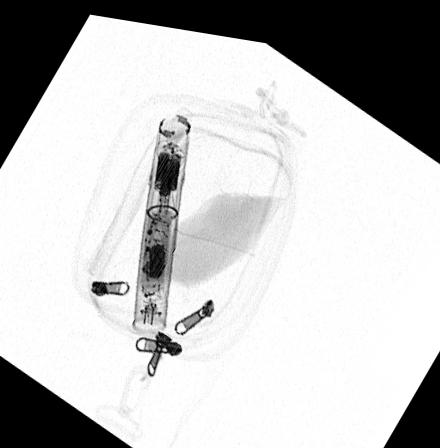Baton: (130, 107, 194, 331)
